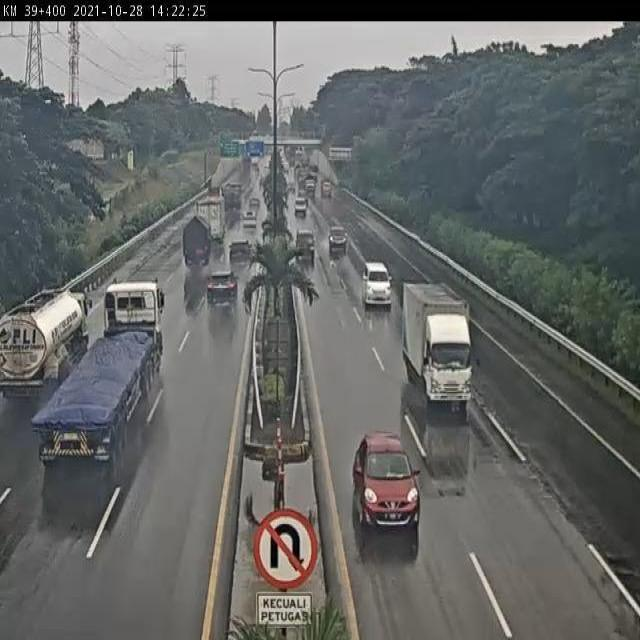car: (352, 428, 419, 536), (206, 270, 239, 310)
truck-l-: (193, 199, 225, 248)
truck-m-: (0, 284, 92, 397), (179, 216, 214, 273)
truck-s-: (399, 276, 476, 420)
truck-xl-: (26, 278, 166, 470)
